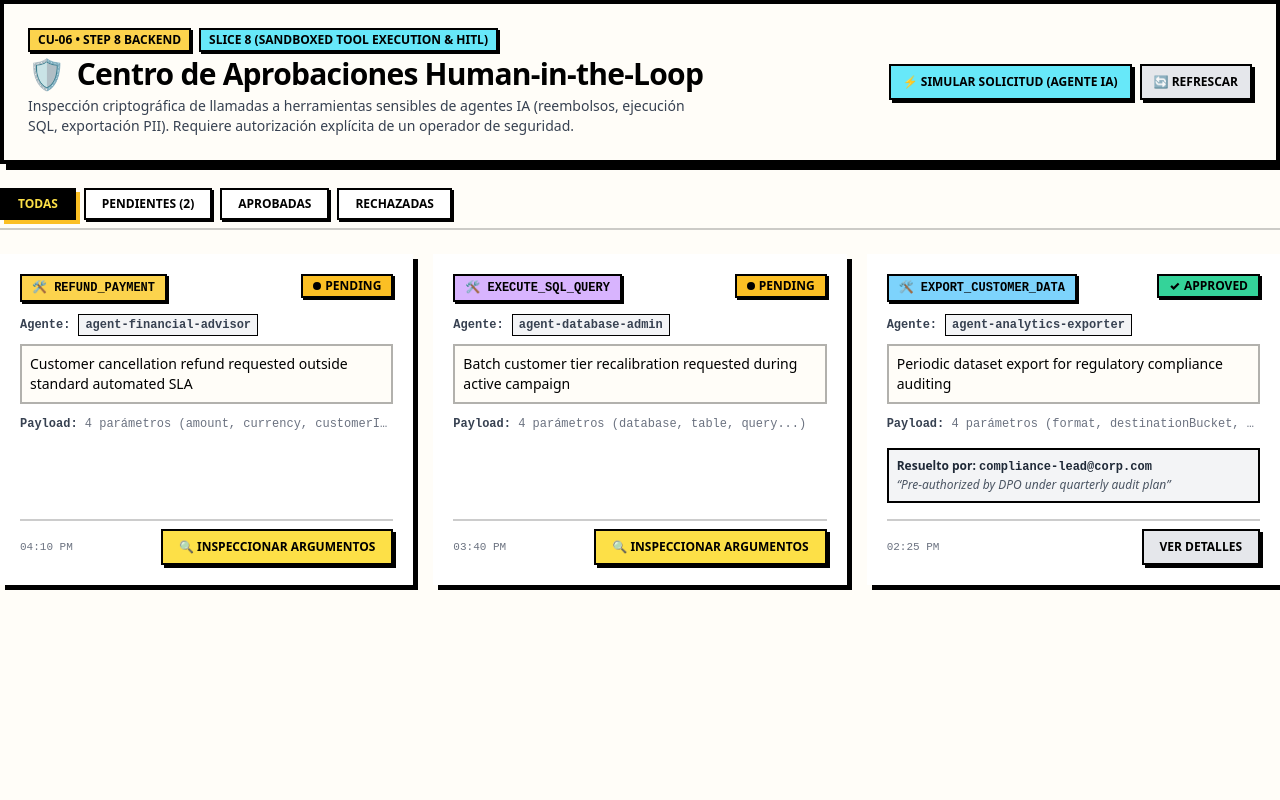
ApprovalsInboxPanel Component › opens inspector modal when clicking inspect on a card
The image size is (1280, 800).
Click the button "🔍 Inspeccionar Argumentos" next to "04:10 PM" at (277, 547), box [161, 529, 393, 565]
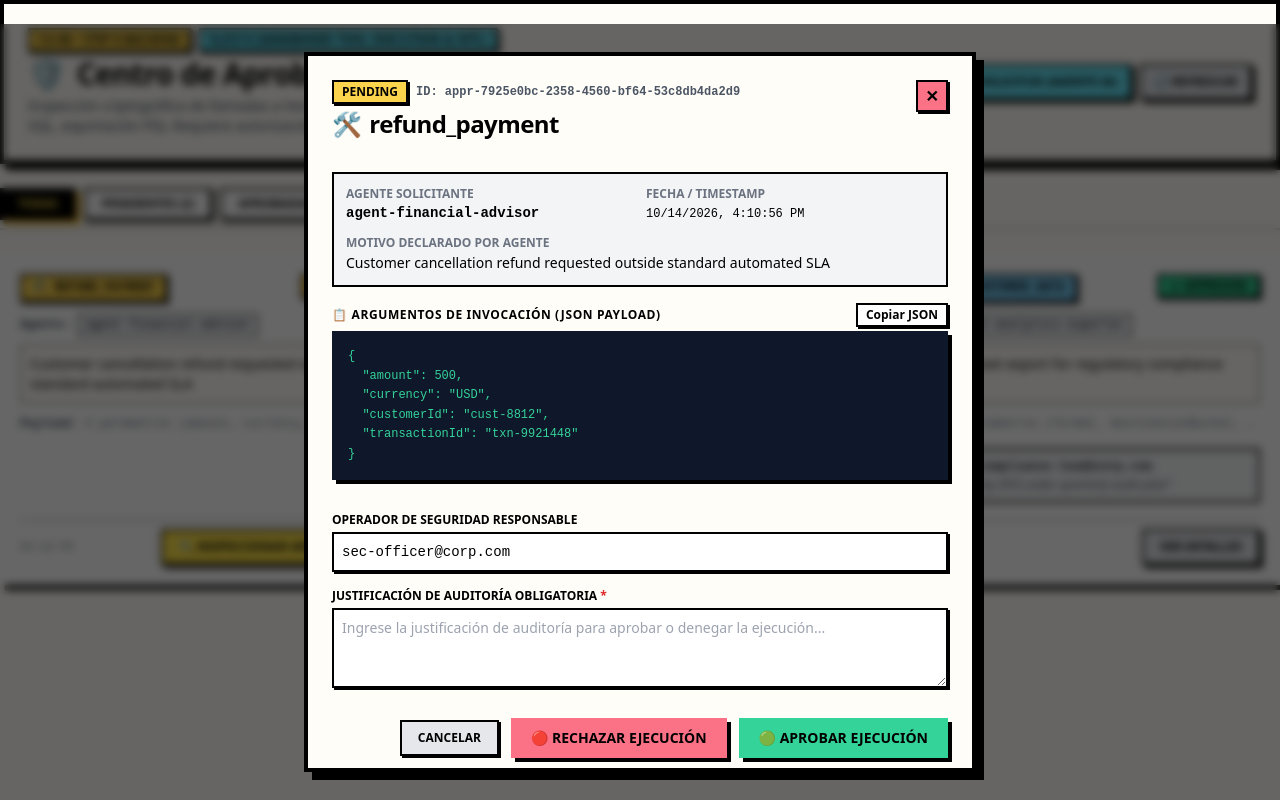
Expected: the dialog is shown
Expected: the text "📋 Argumentos de Invocación (JSON Payload)" is shown, [332, 307, 661, 323]
